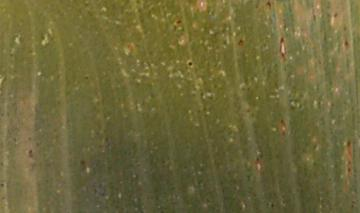tarspot: (263, 1, 273, 12), (25, 148, 34, 159), (342, 37, 350, 48), (79, 157, 87, 167), (186, 59, 194, 68), (236, 38, 244, 47), (278, 118, 286, 127), (345, 138, 352, 148), (349, 199, 356, 209), (332, 11, 340, 19), (82, 74, 90, 81), (174, 18, 182, 24), (1, 181, 7, 189), (269, 201, 275, 208), (254, 156, 261, 162), (346, 166, 351, 173)
